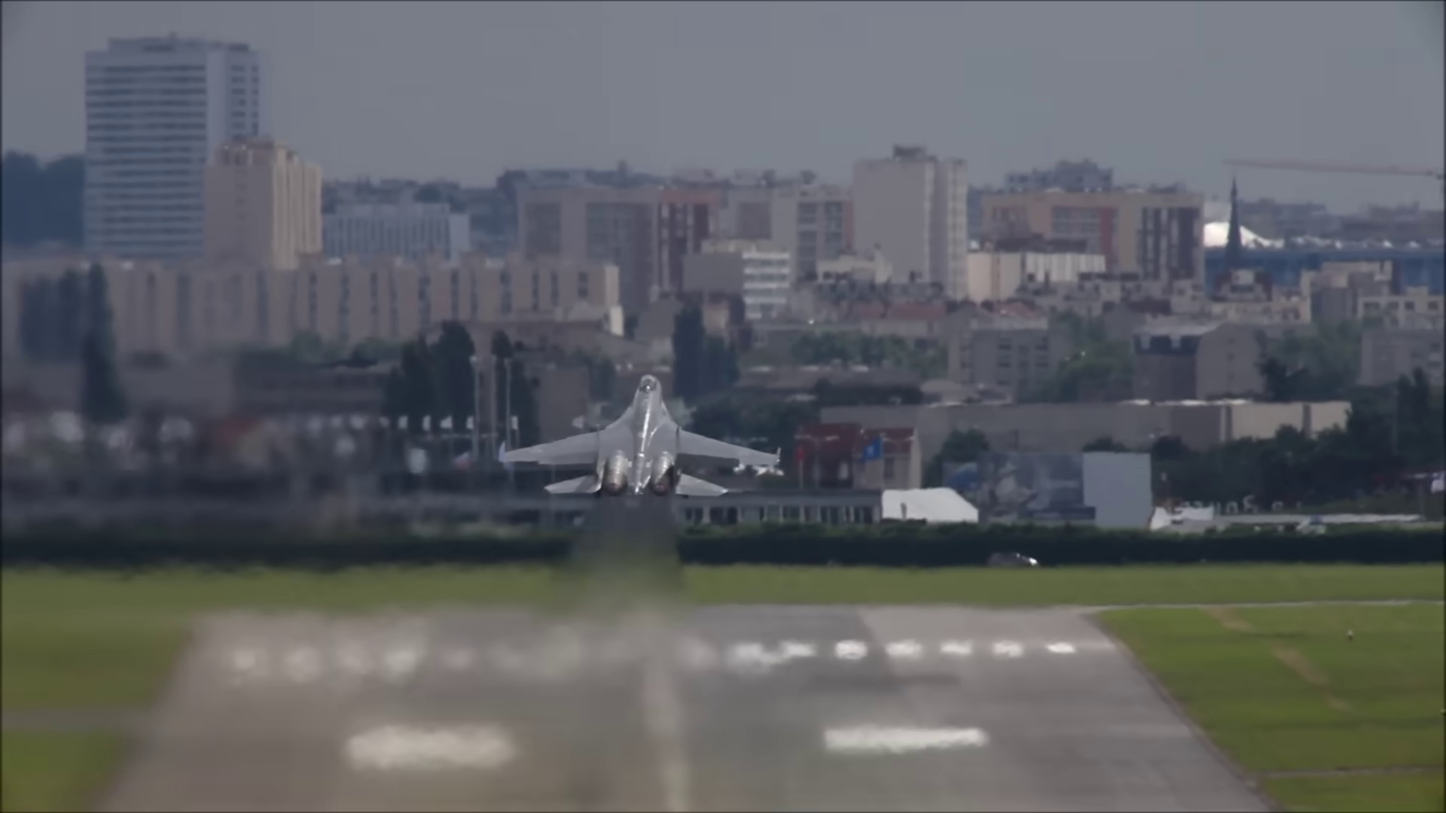Su35: (490, 366, 796, 504)
